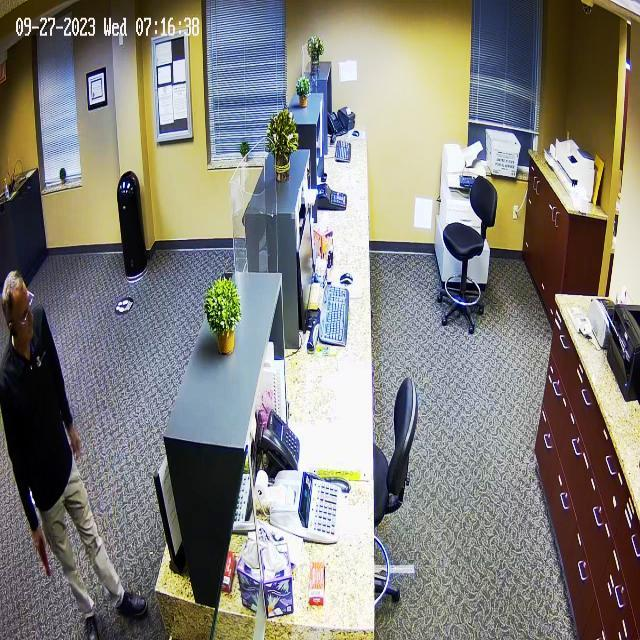Gun: (25, 525, 60, 582)
